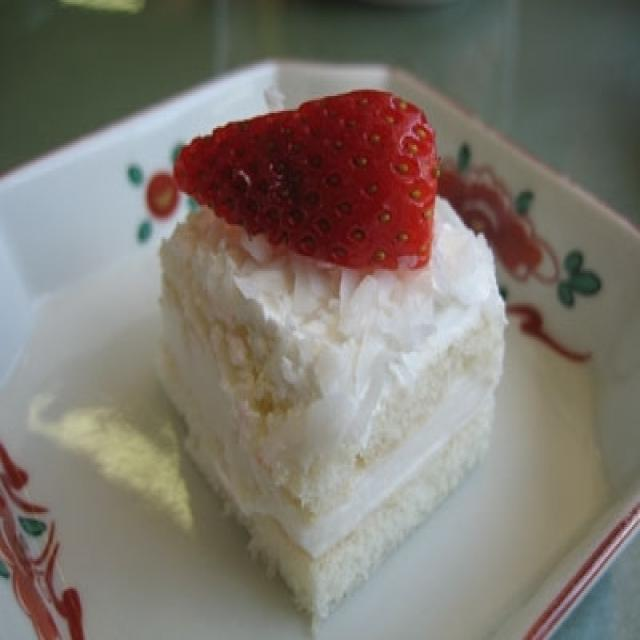蛋糕甜品: (36, 23, 610, 614)
